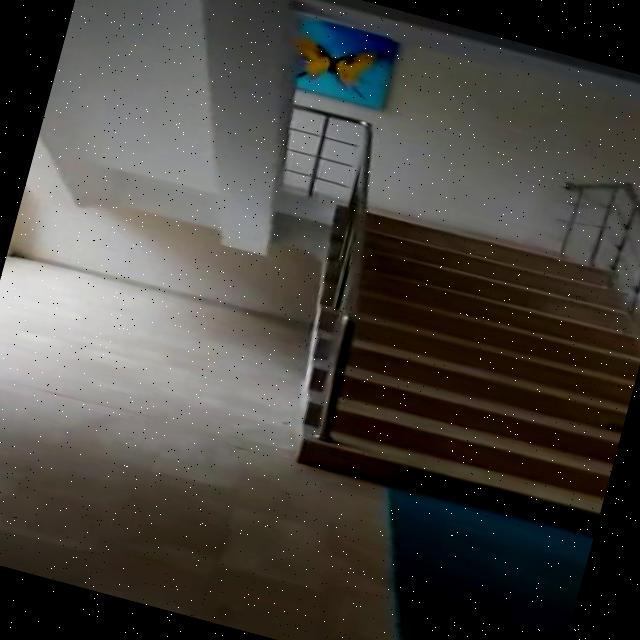stairs: (273, 196, 640, 537)
